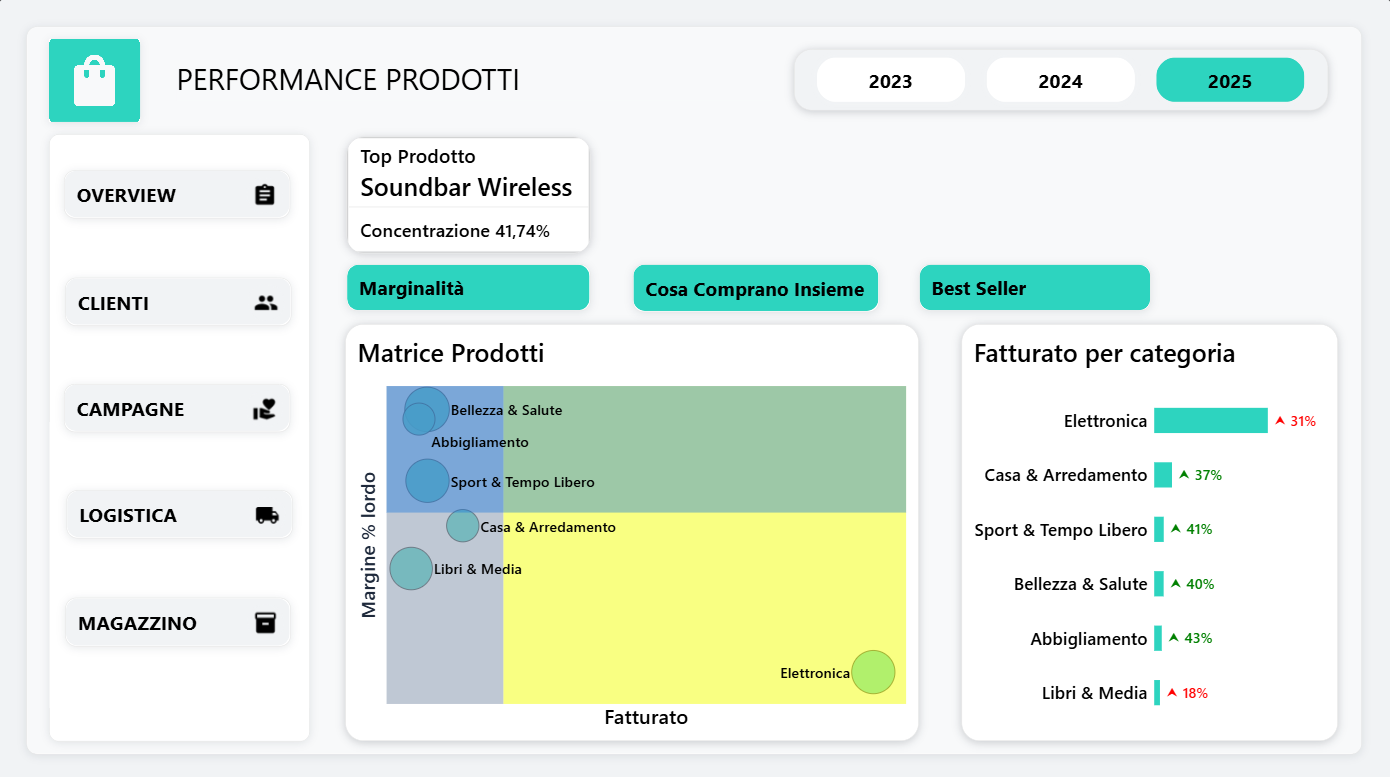

Layout of this report page (visuals, bound fields, positions):
{"tool":"powerbi","page":{"name":"Prodotti","canvas":[1920,1080],"ordinal":2},"visuals":[{"type":"shape","box":[38.2,38.2,1841.8,1003.6],"z":0},{"type":"shape","box":[69.1,185.5,360,838.2],"z":1000},{"type":"actionButton","box":[89.1,236.4,312,66],"z":2000},{"type":"actionButton","box":[91.5,383.6,312,66],"z":3000},{"type":"actionButton","box":[90.3,530.9,312,66],"z":4000},{"type":"actionButton","box":[92.7,678.2,312,66],"z":5000},{"type":"actionButton","box":[91.5,825.5,310.9,67.3],"z":6000},{"type":"image","box":[69.1,54.5,125.5,114.5],"z":7000},{"type":"textbox","title":"PERFORMANCE PRODOTTI","box":[244,83.2,821.6,57.9],"z":8000},{"type":"scatterChart","title":"Matrice Prodotti","fields":{"X":["gold fact_vendite.Fatturato"],"Y":["gold fact_vendite.Margine % lordo"],"Size":["gold dim_prodotti.Quantita Venduta"],"Category":["gold dim_prodotti.categoria Gerarchia.categoria"]},"box":[477.8,448.8,790.8,575.5],"z":9000},{"type":"advancedSlicerVisual","fields":{"Values":["Data.Anno"]},"box":[1096.7,68.8,736.5,85.1],"z":10000},{"type":"barChart","fields":{"Category":["gold dim_prodotti.categoria"],"Y":["gold fact_vendite.Fatturato"]},"box":[1328.3,448.8,519.4,575.5],"z":11000},{"type":"actionButton","box":[479.6,365.6,336.6,65.1],"z":13000},{"type":"actionButton","box":[874.1,365.6,340,66],"z":14000},{"type":"actionButton","box":[1268.6,365.6,320.3,65.1],"z":22000},{"type":"cardVisual","fields":{"Data":["gold dim_prodotti.Nome Top Prodotto"]},"box":[478.5,189.9,337,162],"z":24000}]}

Visuals, with their boxes in screenshot pixels (x1, y1, x2, y2), scaled from the page's 1920x1080 canvas onto the 1390x777 screenshot:
shape: region(28, 27, 1361, 750)
shape: region(50, 133, 311, 736)
actionButton: region(65, 170, 290, 218)
actionButton: region(66, 276, 292, 323)
actionButton: region(65, 382, 291, 429)
actionButton: region(67, 488, 293, 535)
actionButton: region(66, 594, 291, 642)
image: region(50, 39, 141, 122)
"PERFORMANCE PRODOTTI" textbox: region(177, 60, 771, 102)
"Matrice Prodotti" scatterChart: region(346, 323, 918, 737)
advancedSlicerVisual - Data.Anno: region(794, 49, 1327, 111)
barChart - gold dim_prodotti.categoria x gold fact_vendite.Fatturato: region(962, 323, 1338, 737)
actionButton: region(347, 263, 591, 310)
actionButton: region(633, 263, 879, 311)
actionButton: region(918, 263, 1150, 310)
cardVisual - gold dim_prodotti.Nome Top Prodotto: region(346, 137, 590, 253)
